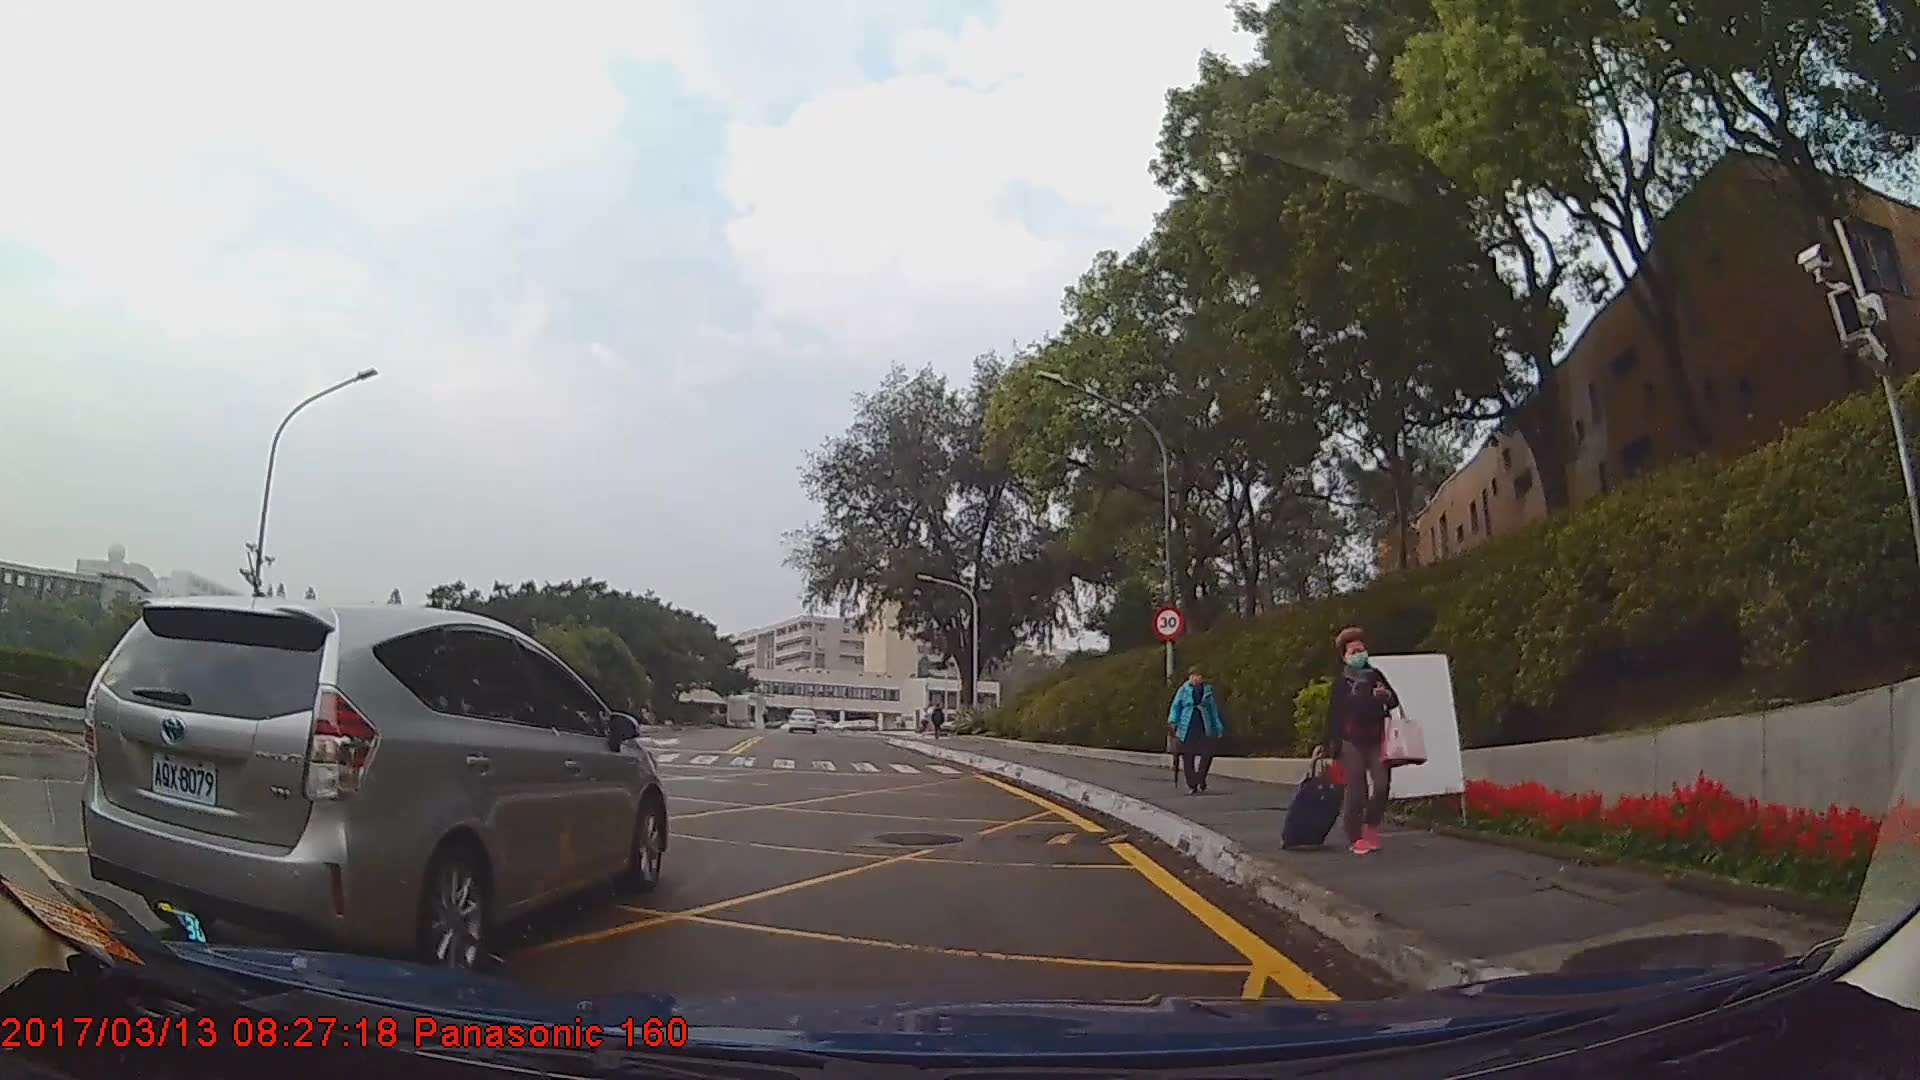pedestrian: (1282, 629, 1427, 856), (1165, 669, 1227, 797)
vehicle: (84, 594, 669, 973), (785, 705, 819, 732)
